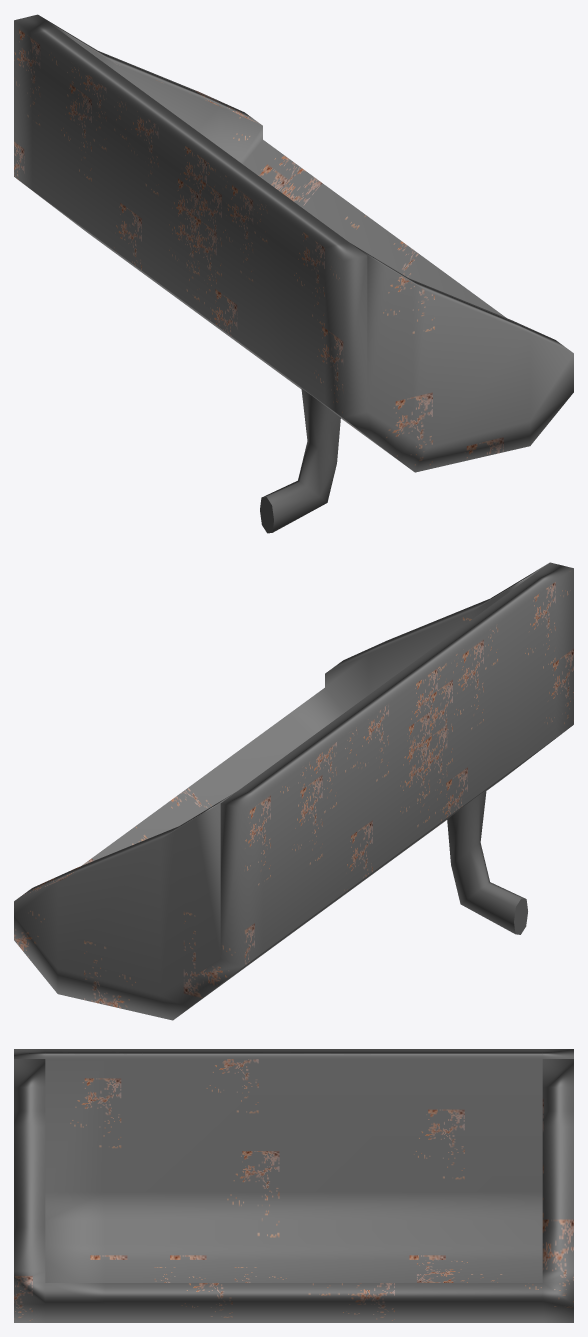
Rendered from MictorioRE1.fbx.
3 renders of one model, top to bottom at view 1: azimuth 30°, elevation 25°; view 2: azimuth 150°, elevation 25°; view 3: azimuth 270°, elevation 25°, orthographic. The views are drawn at different scales.
Visible parts, largest first — view 1: Mictorio; view 2: Mictorio; view 3: Mictorio.
Boxes of the visible parts, box(x1,y1,x2,y2) form: Mictorio: box(14, 14, 573, 533); Mictorio: box(14, 562, 573, 1020); Mictorio: box(14, 1049, 573, 1322).
Size of the model in its own units: 0.4183 by 0.5215 by 0.9827.
1 material, 1 textured.
